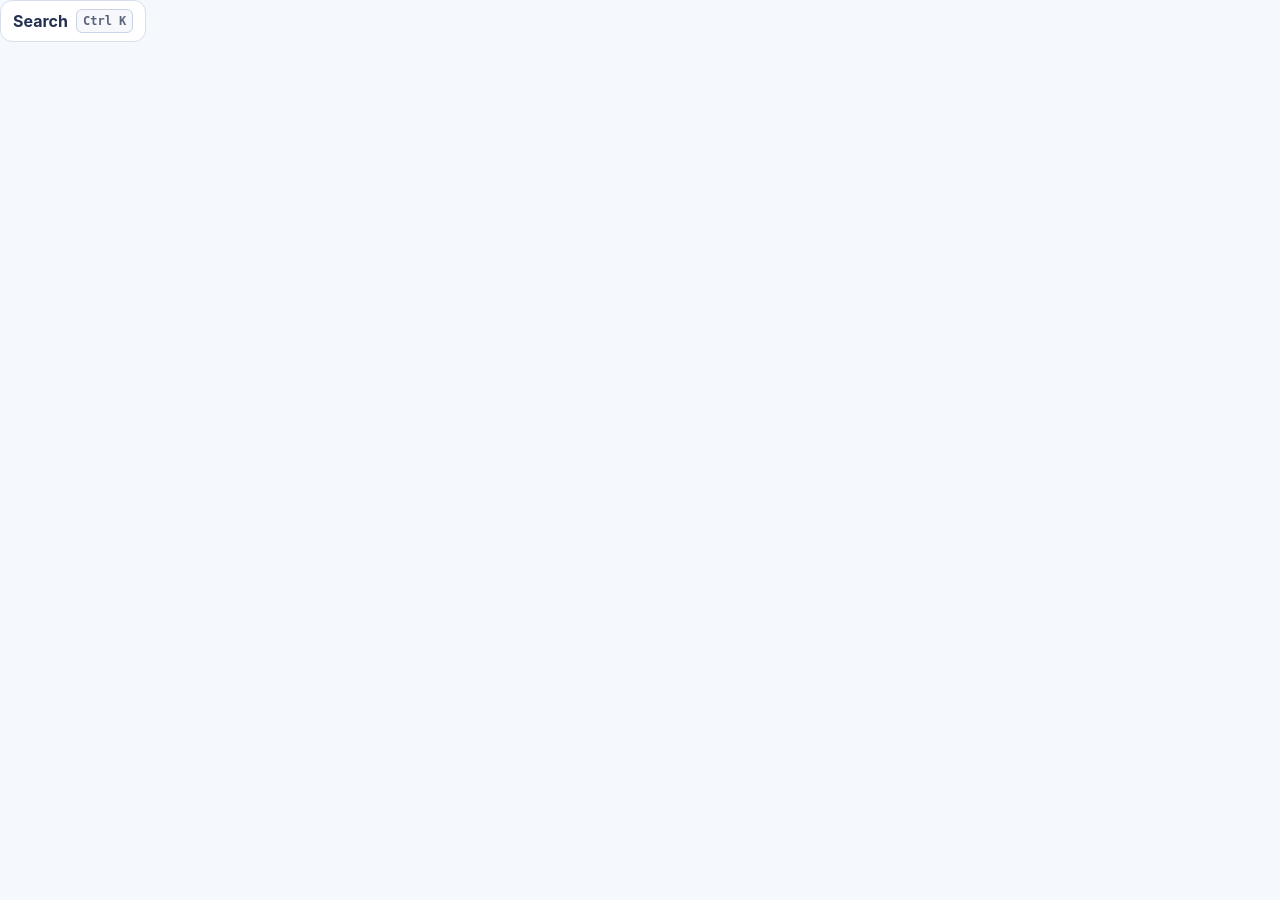
Test: opens with Ctrl+K, supports favourites, traps focus and restores focus on Escape
The width and height of the screenshot is (1280, 900).
Press k
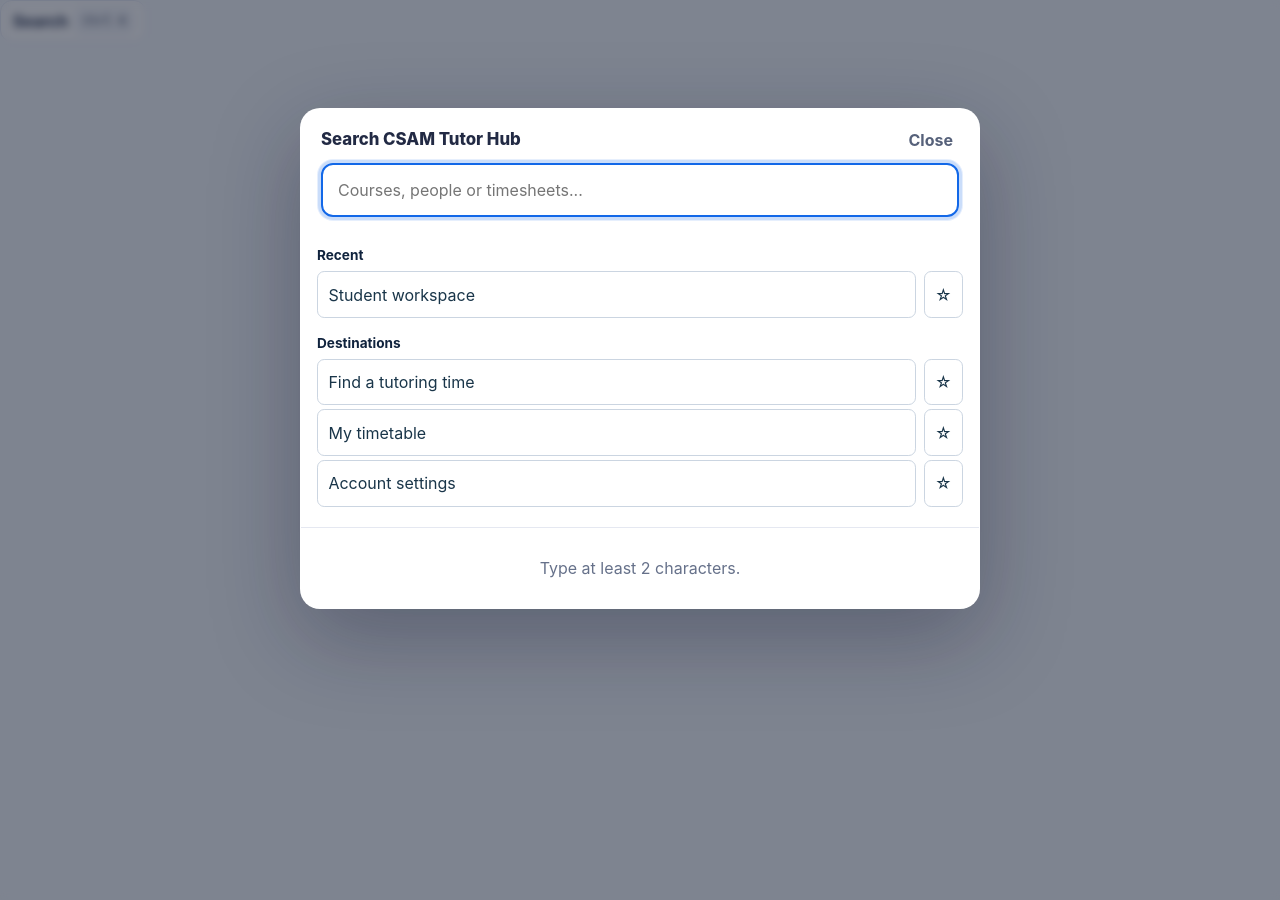
Click the button named "Add My timetable to favourites" at {"x": 943, "y": 433}, box left=924, top=409, right=963, bottom=456
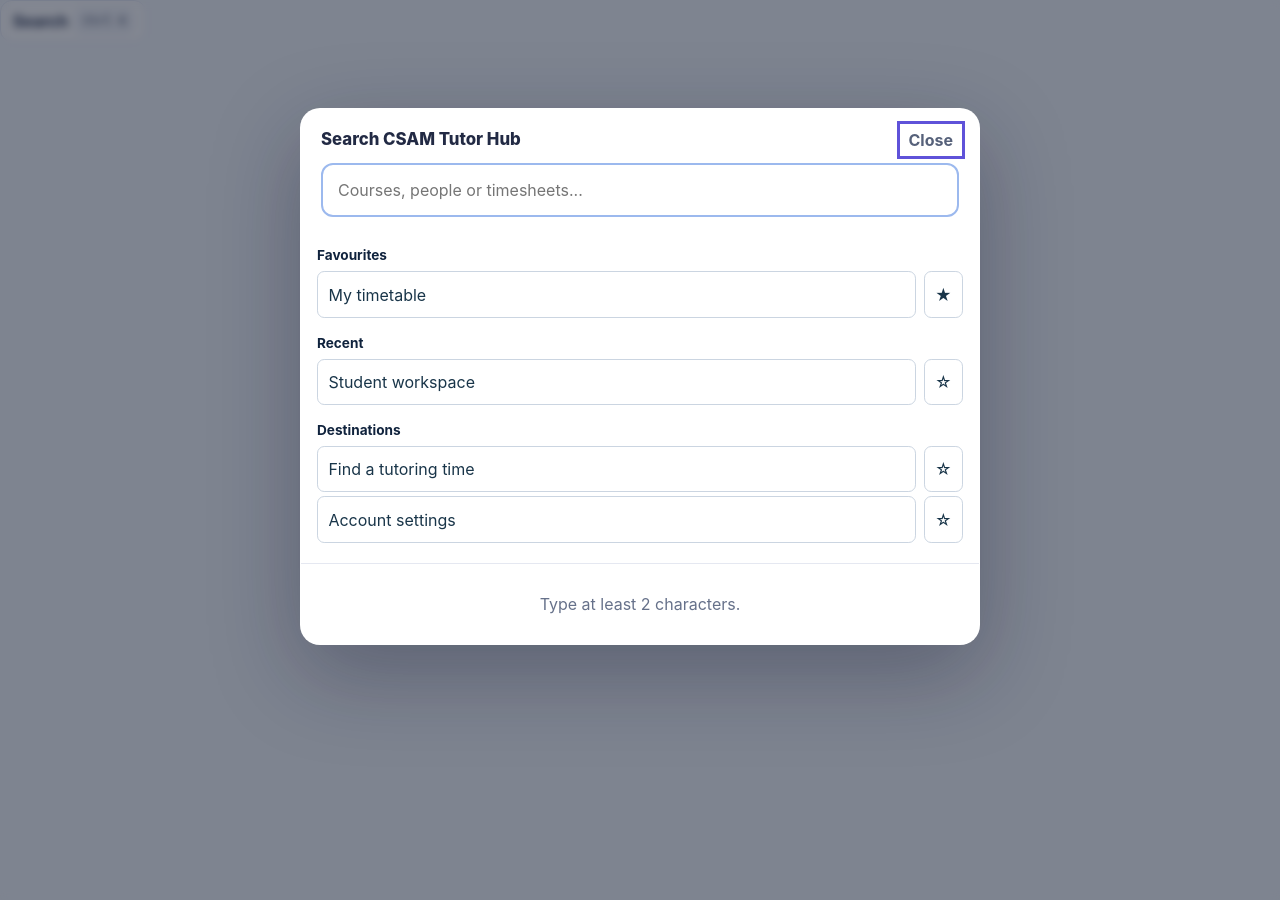
Check: the element "Favourites" shows "My timetable", box left=317, top=271, right=916, bottom=318
Press Shift+Tab
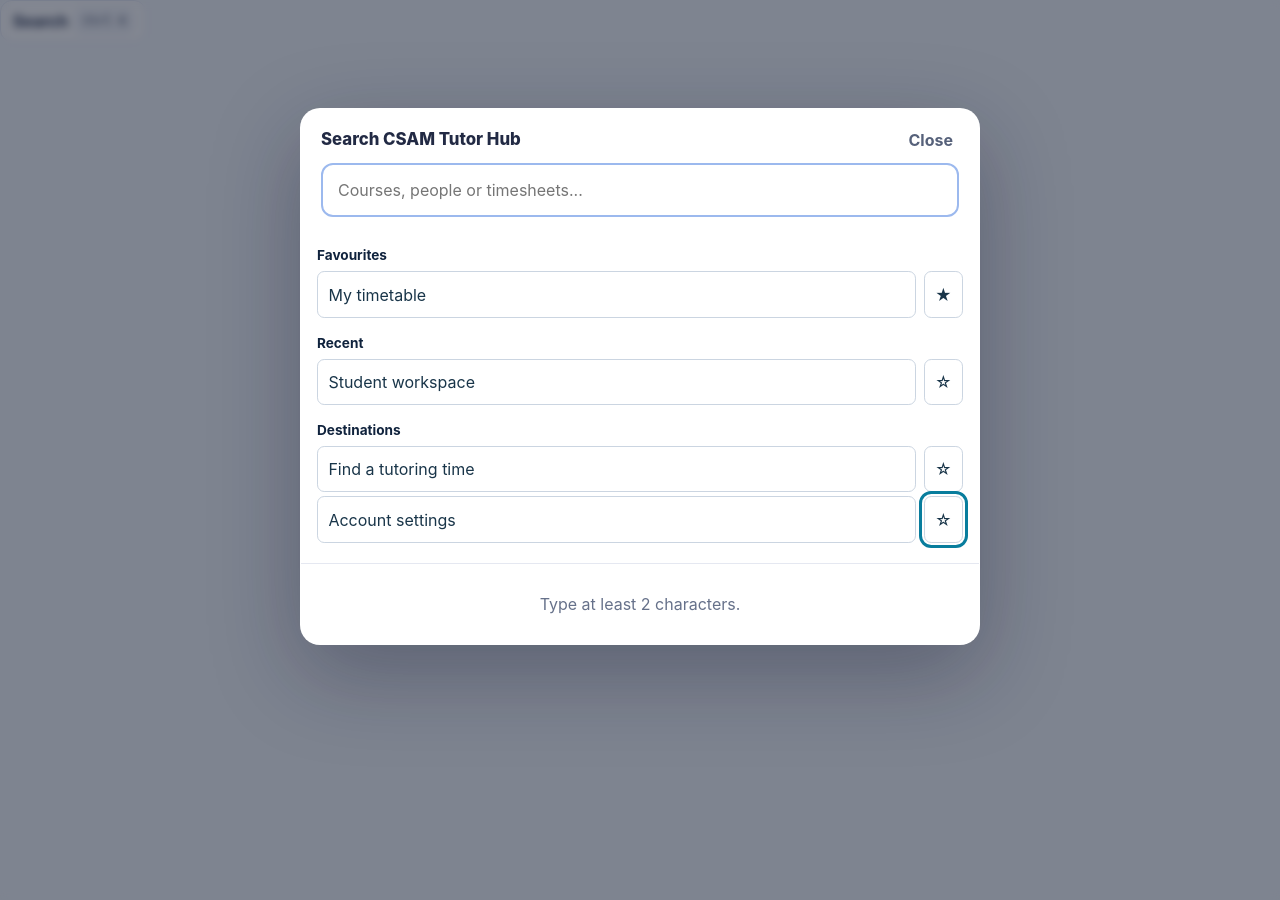
Press Escape
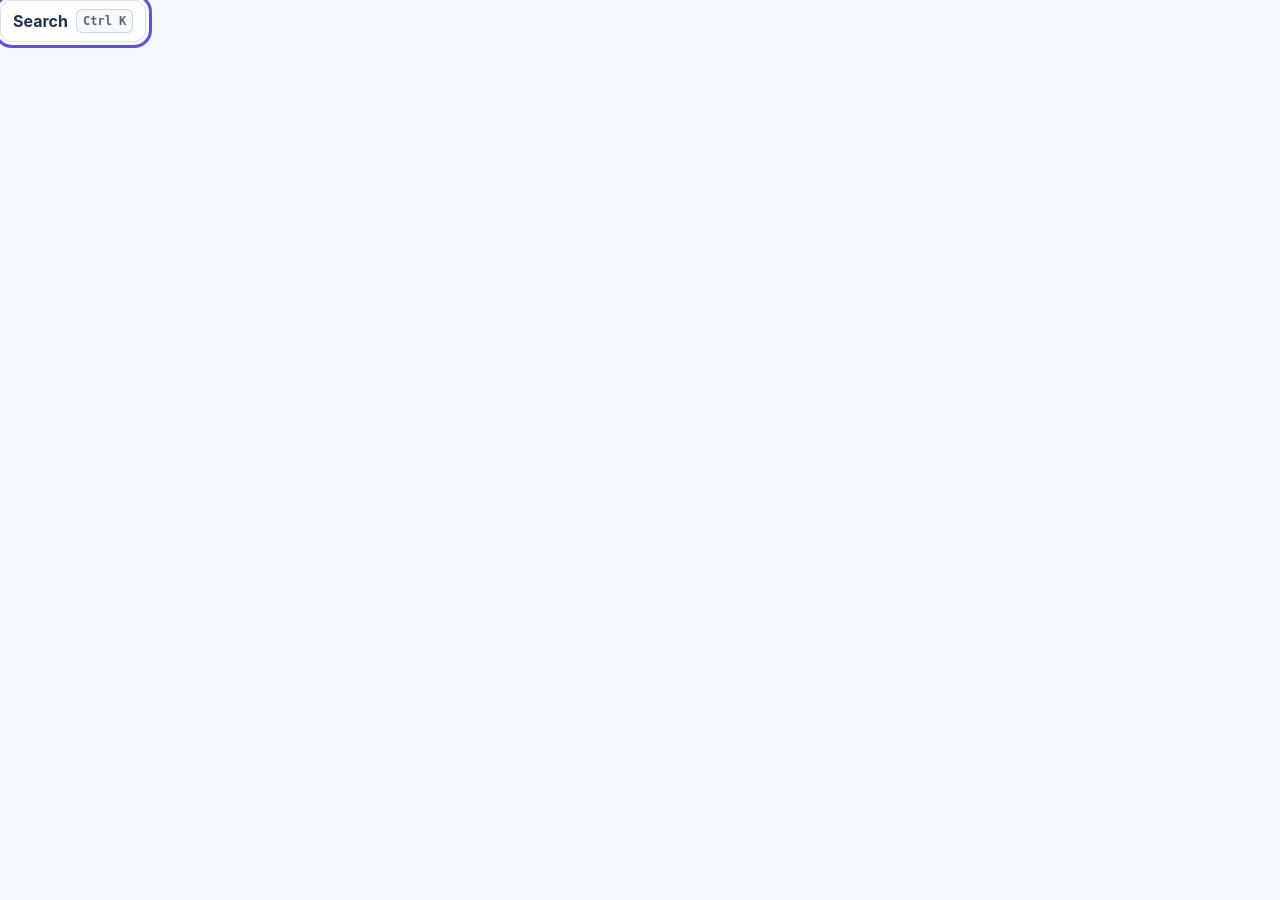
Check: the dialog is gone
